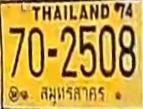0: (98, 24, 115, 76), (27, 26, 44, 76)
2: (60, 26, 78, 78)
5: (79, 24, 98, 78)
7: (9, 27, 26, 77)
8: (118, 24, 135, 76)
SKN: (36, 83, 108, 108)
